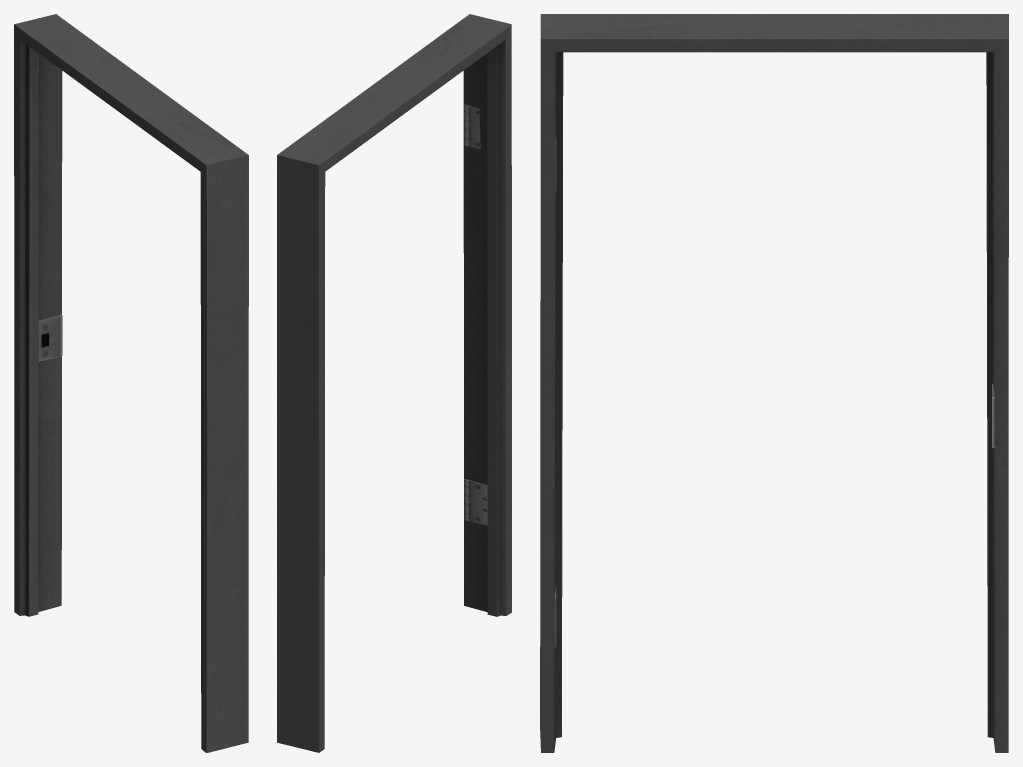
Rendered from p6_door_frame_metal_58_lod1.glb.
3 views of the same model, side by side, from view 1: azimuth 30°, elevation 25°; view 2: azimuth 150°, elevation 25°; view 3: azimuth 270°, elevation 25° (orthographic). The views are drawn at different scales.
Visible parts, largest first — view 1: surf0; view 2: surf0; view 3: surf0.
Part boxes in pixels (left/top/right/bottom): surf0: left=14, top=14, right=248, bottom=752; surf0: left=277, top=14, right=511, bottom=752; surf0: left=540, top=14, right=1008, bottom=752.
Size of the model in its own units: 7.91 by 104 by 61.83.
